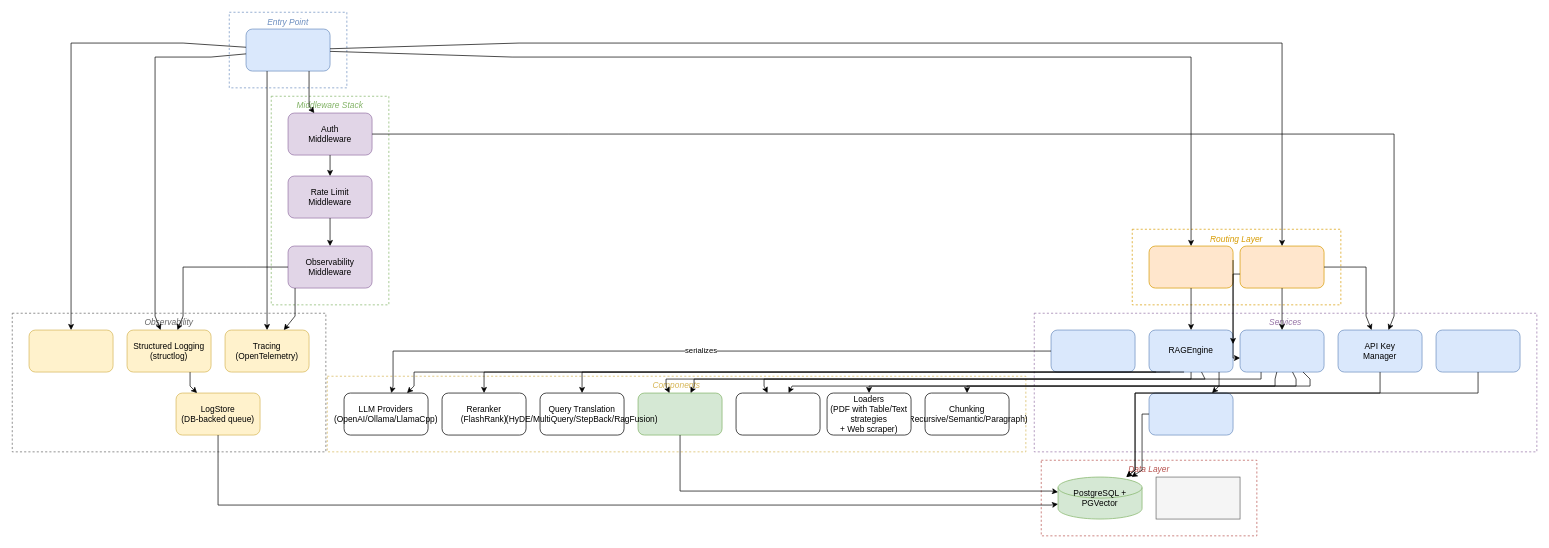
The diagram is 1549 pixels wide and 548 high, and some of its shapes have lost their labels. Here are the shapes that lost their labels. From the top down, the centre of each, then its label:
At (x=287, y=49): "main.py".
At (x=1190, y=266): "UI Router / (Jinja2+HTMX)".
At (x=1281, y=266): "API Router /api/v1".
At (x=70, y=350): "Metrics (Prometheus)".
At (x=1092, y=350): "LLM Queue".
At (x=1281, y=350): "Ingestion Service".
At (x=1477, y=350): "Usage Tracker".
At (x=679, y=413): "Vector DB (PGVector / Pinecone)".
At (x=777, y=413): "Embedder (OpenAI)".
At (x=1190, y=413): "Conversation Service".
At (x=1197, y=497): "Tables rag_vectors_512 | api_keys conversations | usage_logs rag_logs".
